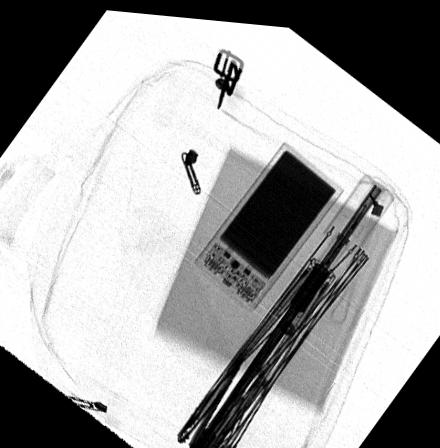Powerbank: (193, 136, 345, 309)
